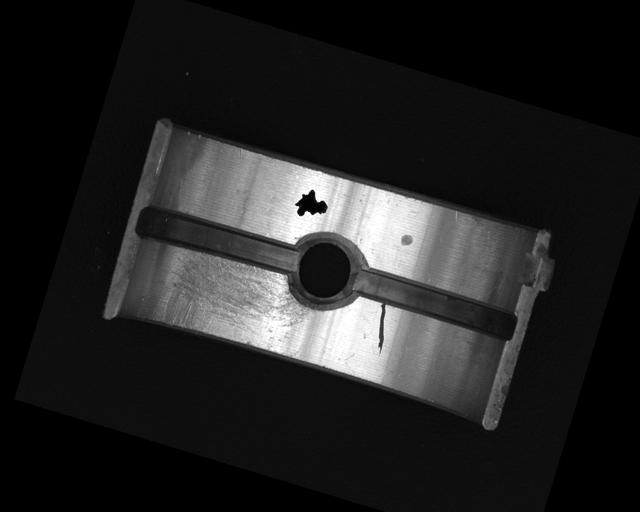blot: (291, 185, 332, 223)
bruise: (398, 232, 415, 248)
gap: (346, 261, 521, 346), (133, 199, 303, 283)
hole: (279, 224, 370, 318)
nick: (366, 302, 397, 356)
scratch: (147, 239, 319, 363)
